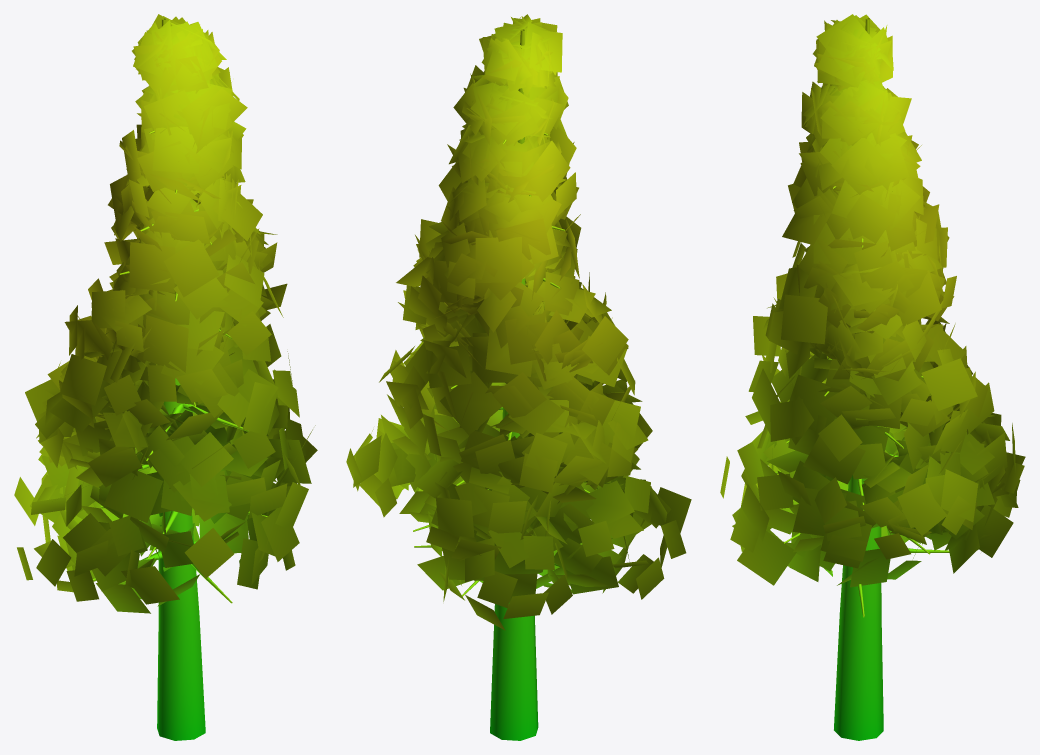
File: sugi_a.glb
The picture shows the model from 3 angles, left to right: view 1: azimuth 30°, elevation 25°; view 2: azimuth 150°, elevation 25°; view 3: azimuth 270°, elevation 25°; orthographic projection.
Visible parts, largest first — view 1: sugi_a; view 2: sugi_a; view 3: sugi_a.
Part boxes in pixels (bbox=[...]): sugi_a: bbox=[14, 14, 317, 740]; sugi_a: bbox=[346, 14, 691, 740]; sugi_a: bbox=[720, 14, 1025, 740].
Size of the model in its own units: 4.63 by 11.27 by 4.39.
